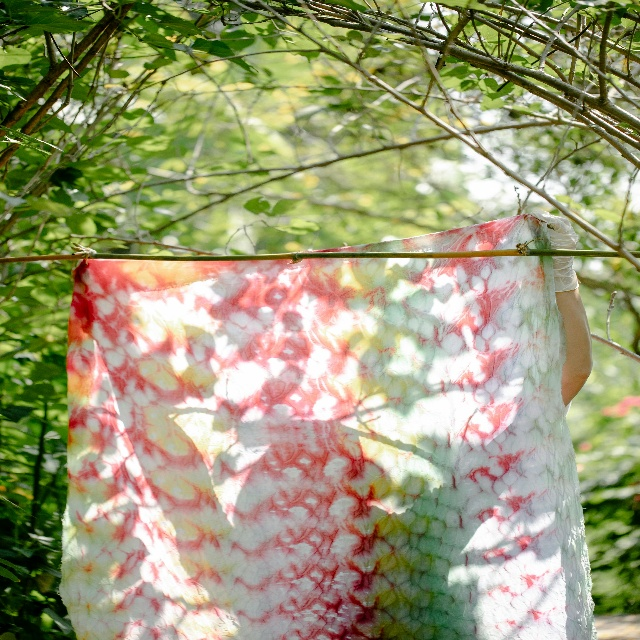Guantes: (530, 205, 580, 291)
